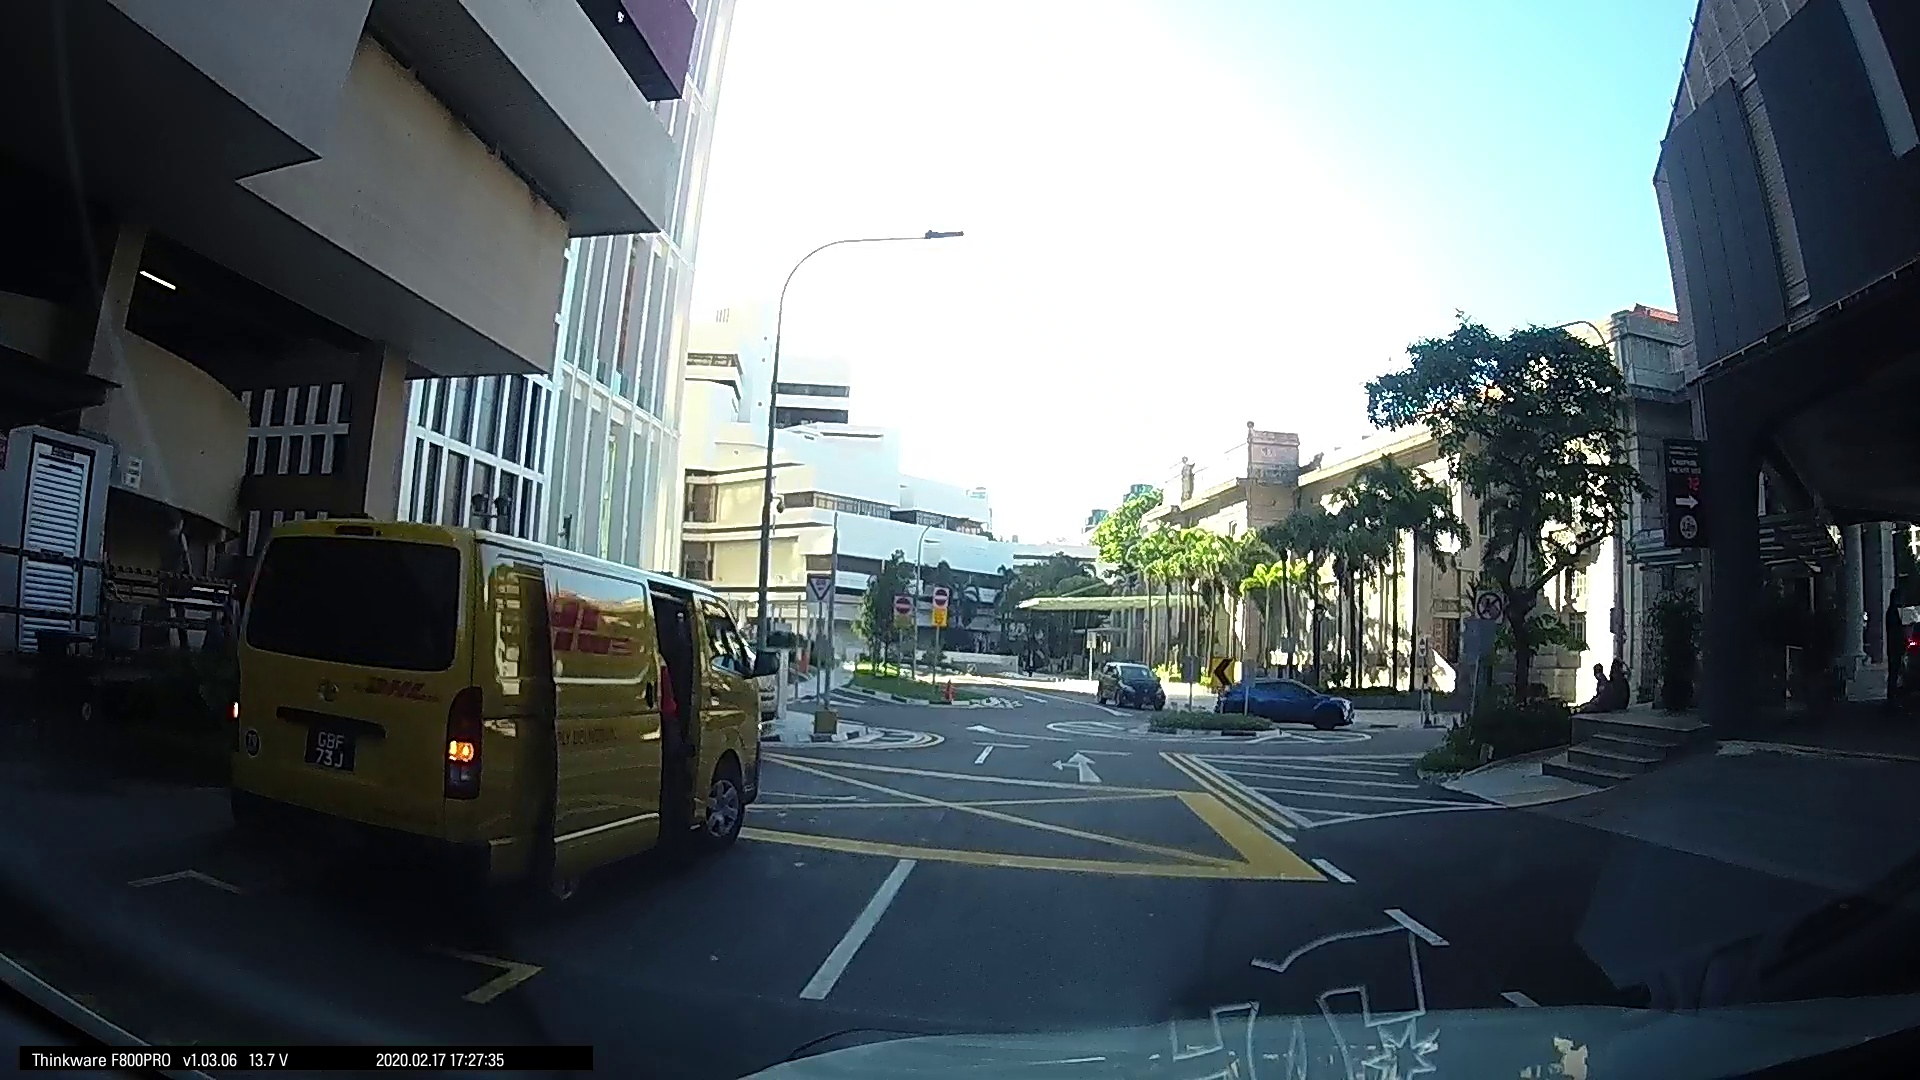Light Vehicle: (206, 514, 760, 906), (1208, 666, 1346, 731), (1095, 657, 1167, 709)
